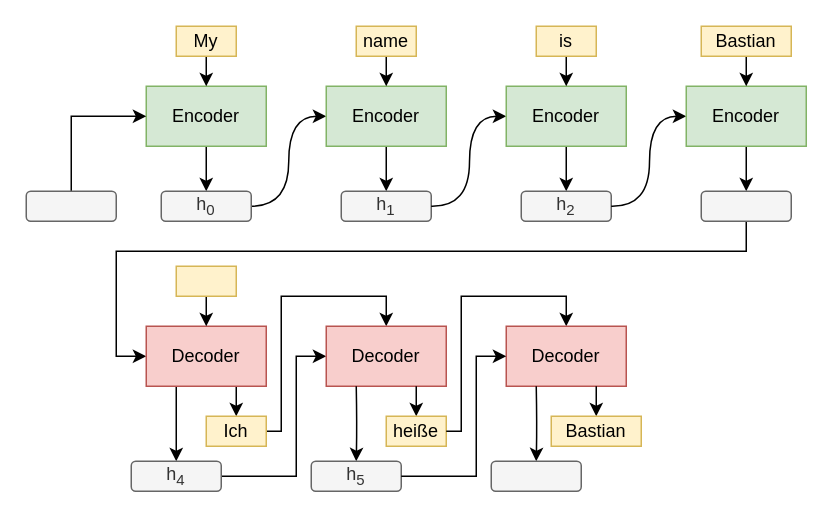
The diagram is 833 pixels wide and 518 high, and some of its shapes have lost their labels. The box of each missing label's shape, as (x1, y1, x2, y2) in pixels:
<Start>: (175, 265, 236, 296)
h 3: (700, 190, 791, 221)
h 6: (490, 460, 581, 491)
h start: (25, 190, 116, 221)
